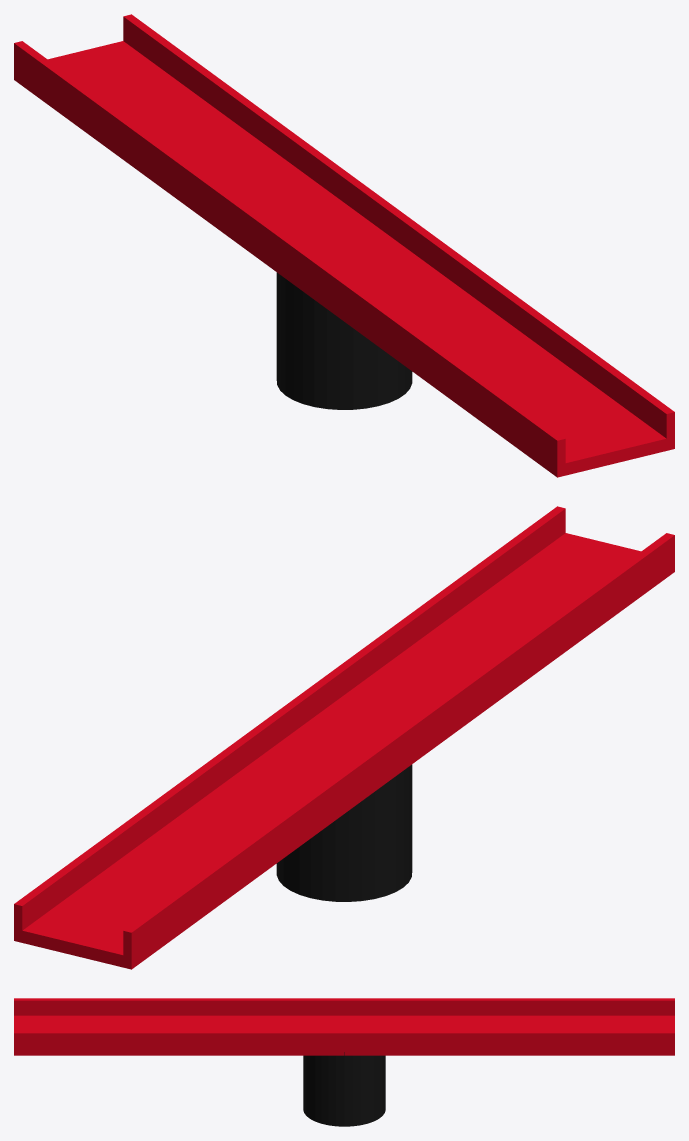
The model's file is swingbridge.glb.
3 views of the same model, one above another, from view 1: azimuth 30°, elevation 25°; view 2: azimuth 150°, elevation 25°; view 3: azimuth 270°, elevation 25° (orthographic). The views are drawn at different scales.
Visible parts, largest first — view 1: Cylinder; view 2: Cylinder; view 3: Cylinder.
Part boxes in pixels (bbox=[...]): Cylinder: bbox=[14, 14, 674, 477]; Cylinder: bbox=[14, 506, 674, 969]; Cylinder: bbox=[14, 998, 674, 1126].
Bounding box in the file's own units: 20 × 24.99 × 160.
